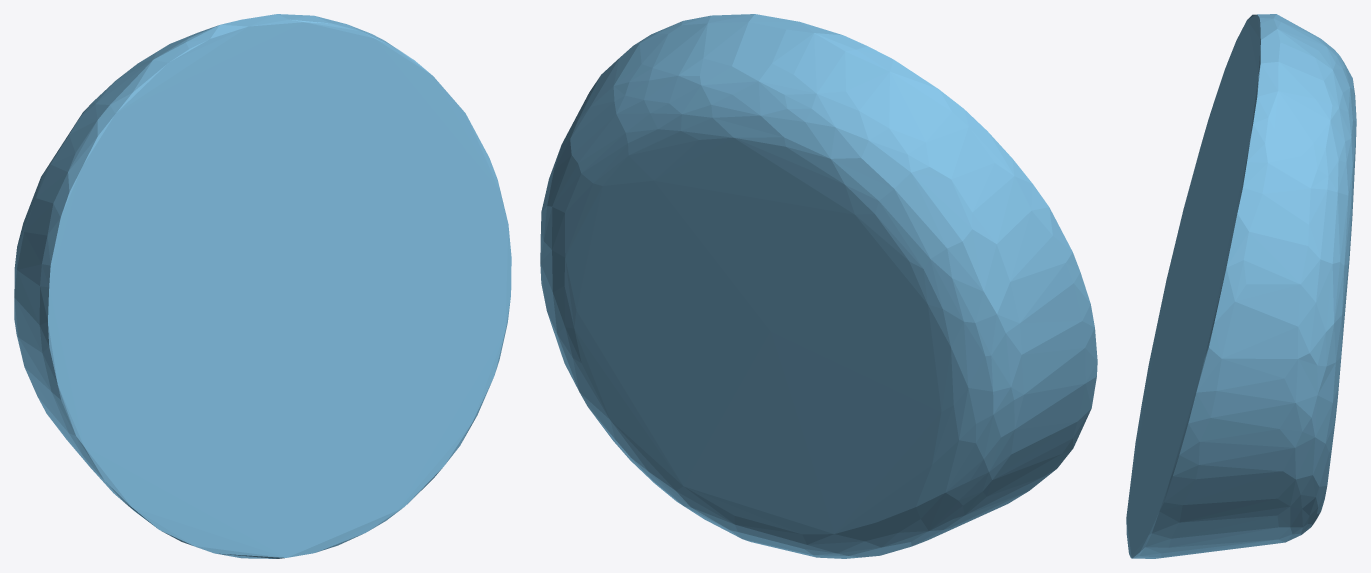
File: ur3_link5_visible_vis_3.dae
3 renders of one model, left to right at view 1: azimuth 30°, elevation 25°; view 2: azimuth 150°, elevation 25°; view 3: azimuth 270°, elevation 25°, orthographic. The views are drawn at different scales.
Parts seen in each view (by area): view 1: Node_000002223FC9BBD0; view 2: Node_000002223FC9BBD0; view 3: Node_000002223FC9BBD0.
Boxes of the visible parts, <box> form: Node_000002223FC9BBD0: <box>14,14,511,558</box>; Node_000002223FC9BBD0: <box>540,14,1097,558</box>; Node_000002223FC9BBD0: <box>1126,14,1356,558</box>.
Bounding box in the file's own units: 0.065 × 0.0648 × 0.0274.
